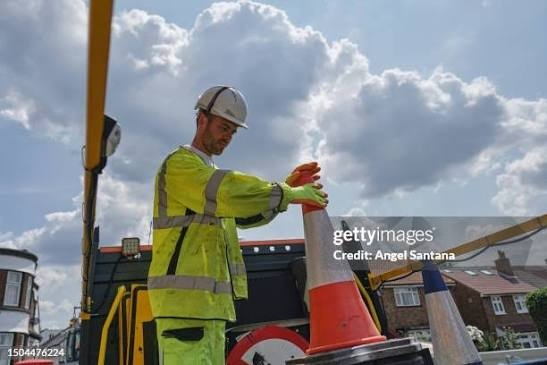hardhat: (180, 75, 264, 130)
person: (134, 65, 308, 364)
safety_cone: (294, 165, 397, 363)
safety_vest: (145, 140, 283, 326)
